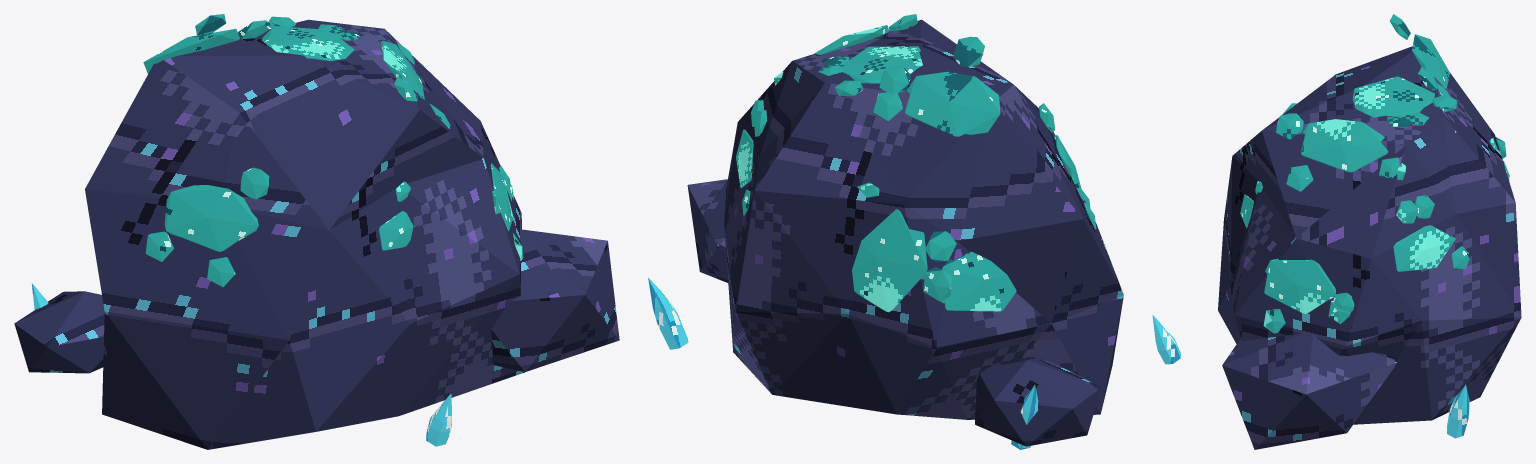
Rendered from cave_boulder.glb.
The picture shows the model from 3 angles, left to right: view 1: azimuth 30°, elevation 25°; view 2: azimuth 150°, elevation 25°; view 3: azimuth 270°, elevation 25°; orthographic projection. The views are drawn at different scales.
Parts seen in each view (by area): view 1: Boulder, MossGlow, Crystal; view 2: Boulder, MossGlow, Crystal; view 3: Boulder, MossGlow, Crystal.
Boxes of the visible parts, bbox=[...] form: Boulder: bbox=[14, 19, 619, 449]; MossGlow: bbox=[143, 14, 523, 286]; Crystal: bbox=[31, 283, 451, 446]; Boulder: bbox=[687, 19, 1123, 446]; MossGlow: bbox=[736, 14, 1096, 312]; Crystal: bbox=[648, 277, 1038, 449]; Boulder: bbox=[1218, 46, 1521, 449]; MossGlow: bbox=[1240, 14, 1509, 333]; Crystal: bbox=[1152, 314, 1469, 438].
Size of the model in its own units: 3.61 by 2.57 by 2.71.
3 materials, 3 textured.
